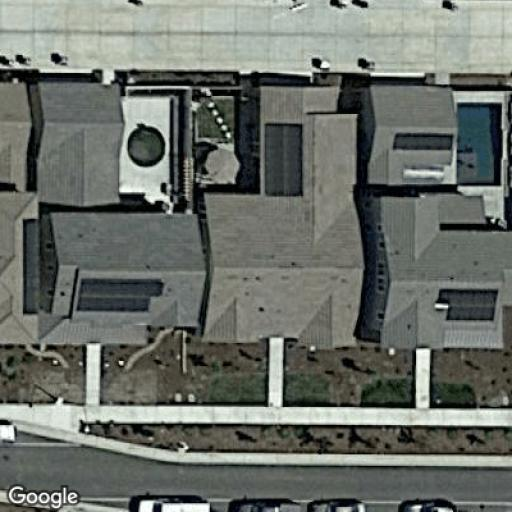solar-panel: (262, 121, 308, 198), (76, 278, 167, 314), (434, 286, 503, 324), (20, 216, 40, 316), (391, 130, 454, 154)
